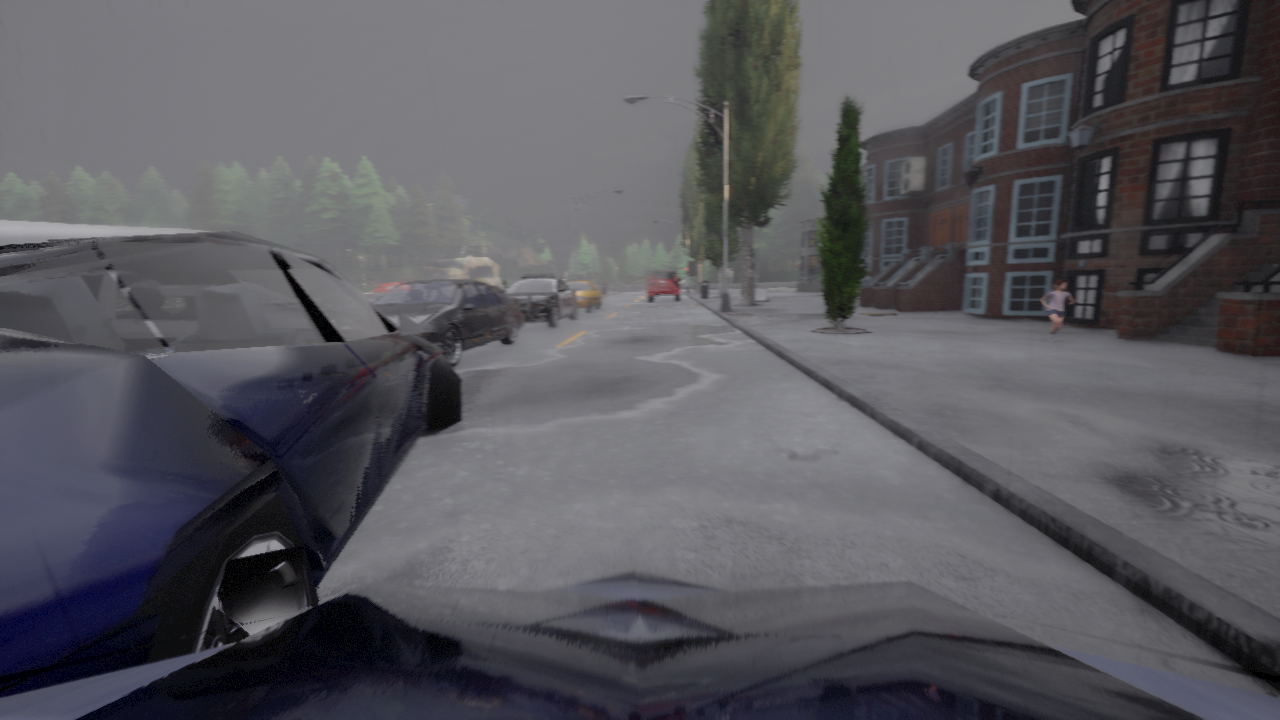cyclist: (0, 569, 1279, 719), (372, 280, 524, 367), (500, 274, 576, 327), (565, 278, 600, 313), (647, 271, 680, 301), (372, 282, 406, 292)
pedestrian: (1041, 279, 1075, 340), (754, 274, 757, 287)
